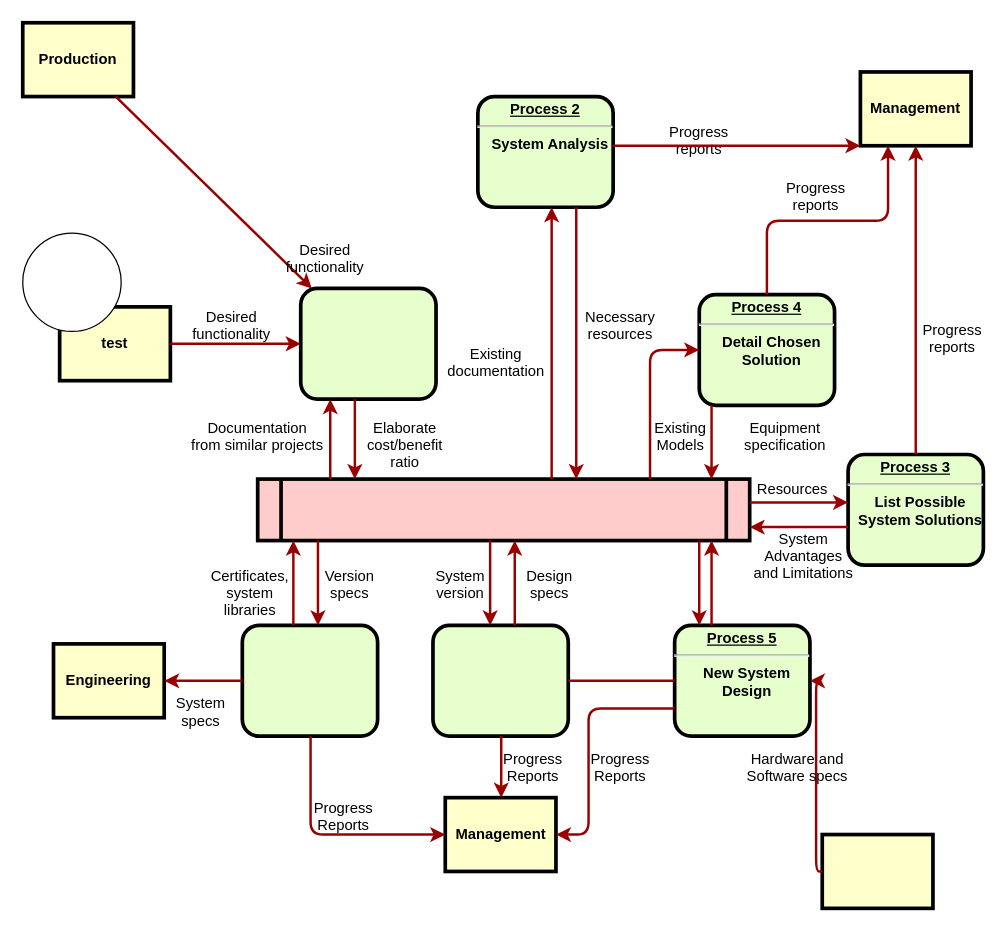
This 1006x931 diagram has some shape labels left out. The shapes that lost their labels are listed below. From the top down, each one's centre as x and y in pixels, then its label:
At (x=367, y=343): "Process 1 System Study Preparation".
At (x=503, y=509): "ON-DEMAND SYSTEM DEVELOPMENT".
At (x=309, y=680): "Process 6 New System Construction".
At (x=499, y=680): "Process 7 New System Startup and Testing".
At (x=877, y=871): "Vendors".
